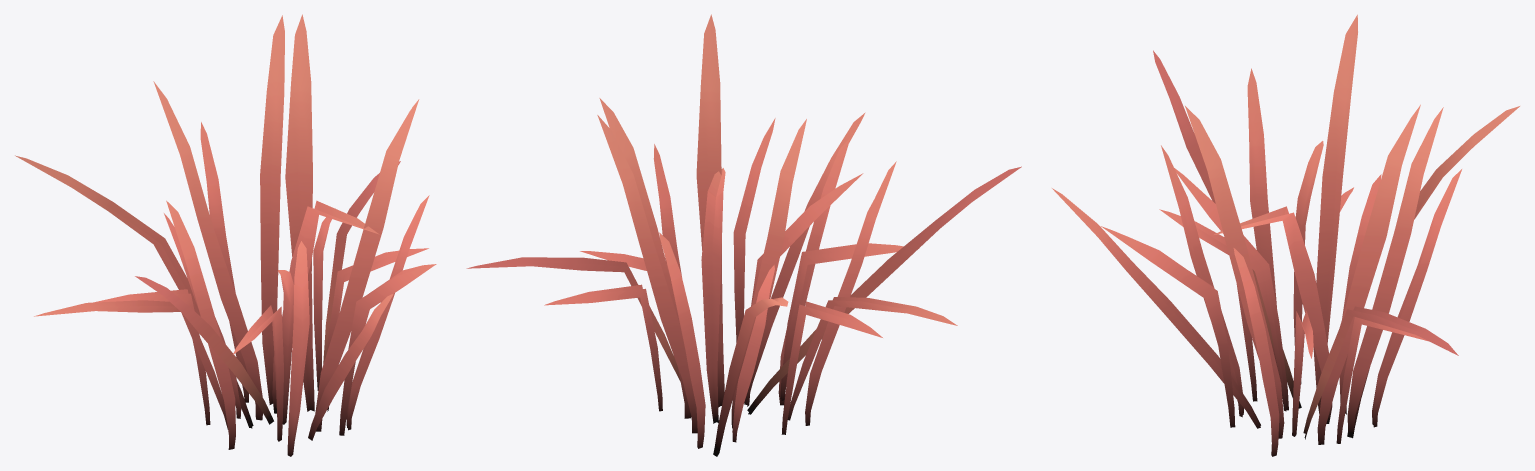
The model's file is grassdry1.glb.
The picture shows the model from 3 angles, left to right: view 1: azimuth 30°, elevation 25°; view 2: azimuth 150°, elevation 25°; view 3: azimuth 270°, elevation 25°; orthographic projection. The views are drawn at different scales.
Visible parts, largest first — view 1: Grass_Wispy_Short; view 2: Grass_Wispy_Short; view 3: Grass_Wispy_Short.
Part boxes in pixels (x1,y1,x2,y2): Grass_Wispy_Short: (15,14,436,456); Grass_Wispy_Short: (466,14,1021,456); Grass_Wispy_Short: (1052,14,1519,456).
Size of the model in its own units: 1.32 by 1.07 by 1.21.
Materials: 1 (1 with a texture image).
